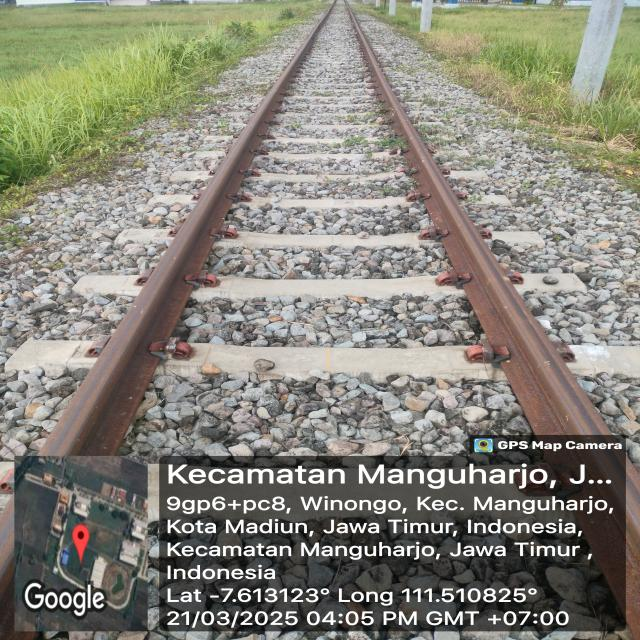rail-detection: (349, 10, 626, 610), (41, 6, 334, 455)
